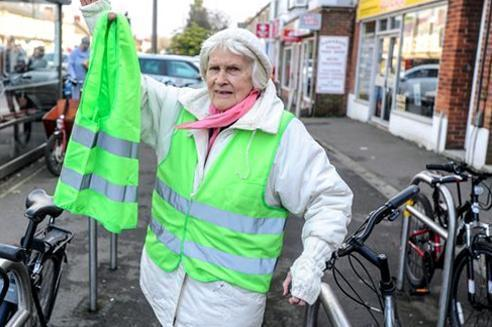Vest: (144, 92, 297, 277)
